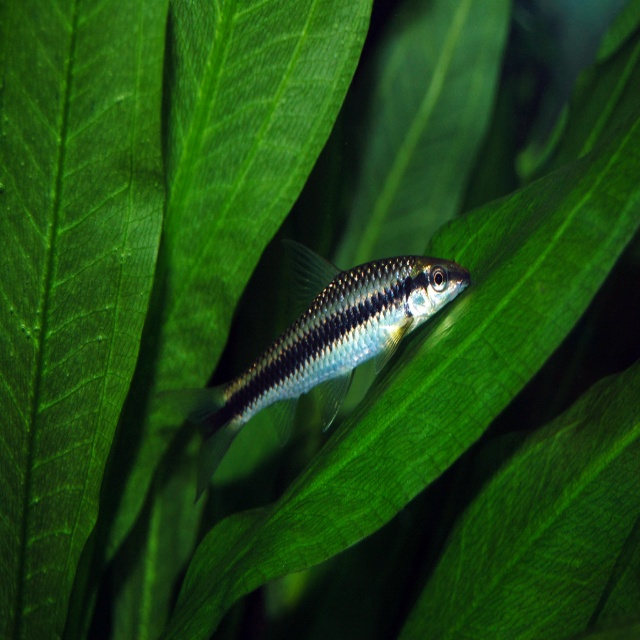Fish: (166, 235, 476, 475)
